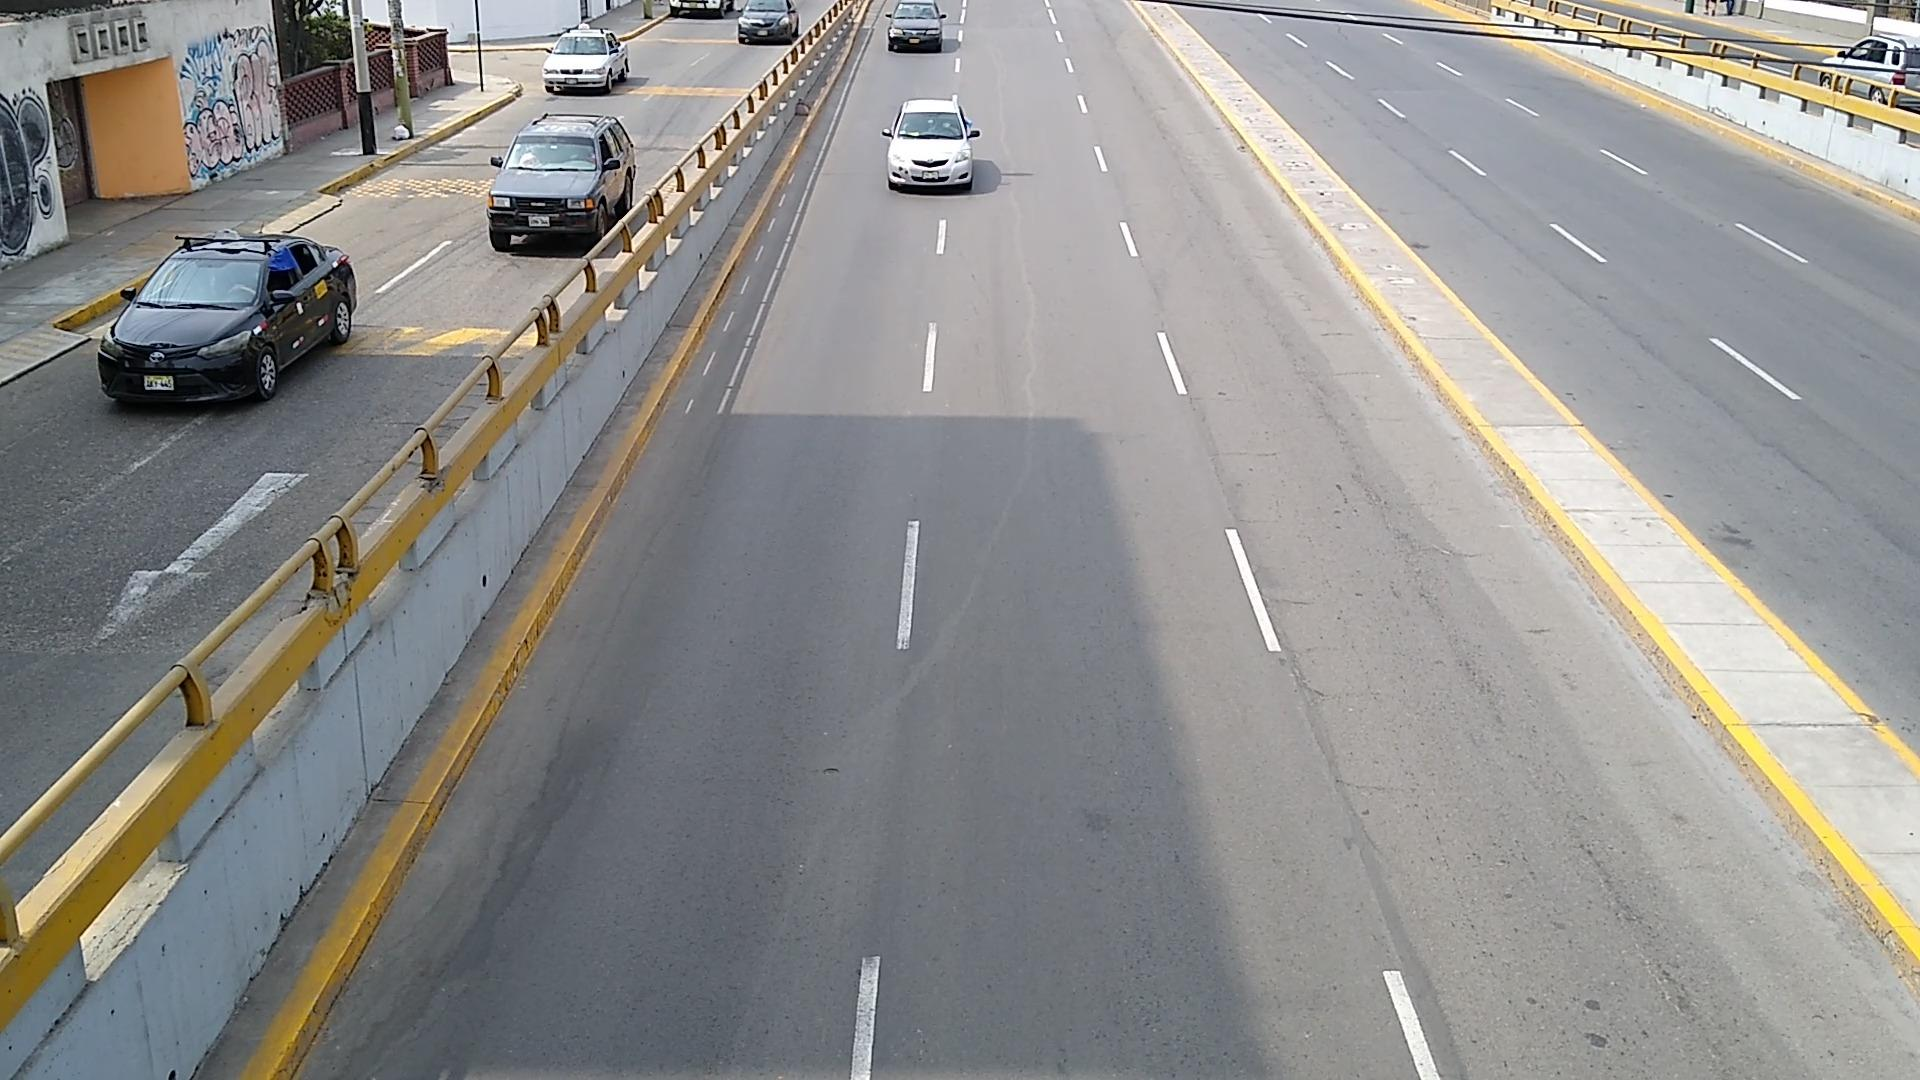car: (98, 232, 356, 401), (488, 112, 637, 252), (881, 98, 978, 190), (543, 30, 630, 94), (1822, 34, 1920, 90), (889, 0, 945, 50), (738, 0, 799, 45)
